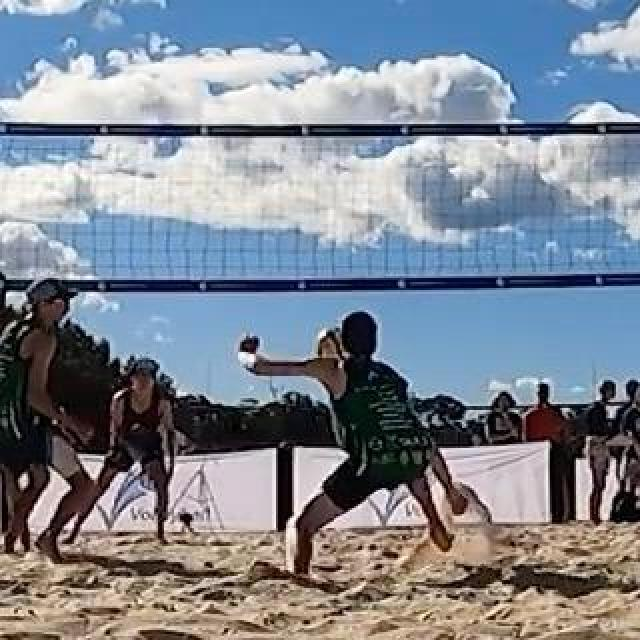volleyball: (316, 324, 356, 368)
